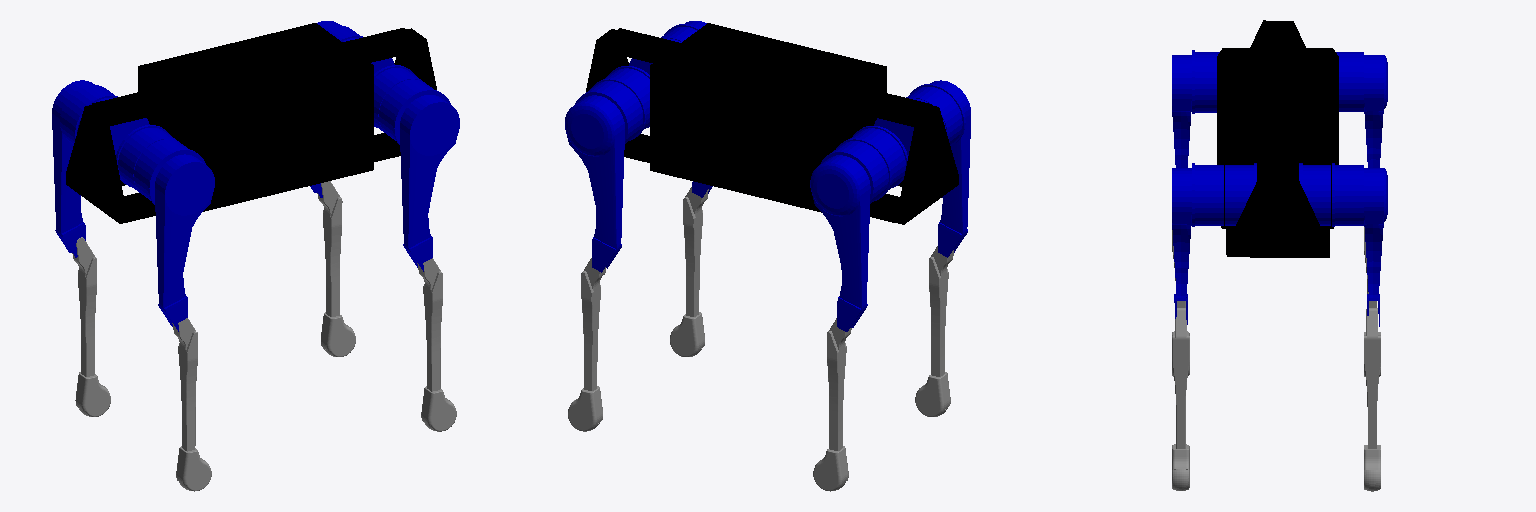
URDF robot description (rex):
<?xml version="1.0" encoding="utf-8"?>
<robot name="rex">
  <material name="black">
    <color rgba="0.0 0.0 0.0 1.0"/>
  </material>
  <material name="blue">
    <color rgba="0.0 0.0 0.8 1.0"/>
  </material>
  <material name="grey">
    <color rgba="0.6 0.6 0.6 1"/>
  </material>

  <link name="trunk">
    <visual>
      <origin rpy="0 0 -1.5708" xyz="0 0 0"/>
      <geometry>
        <mesh filename="rex/body.obj" scale="1 1 1"/>
      </geometry>
      <material name="black"/>
    </visual>
    <!-- <collision>
      <origin rpy="0 0 0" xyz="0 0 0"/>
      <geometry>
        <box size="0.267 0.194 0.114"/>
      </geometry>
    </collision> -->
    <collision>
      <origin rpy="0 0 0" xyz="0 0 0"/>
      <geometry>
        <mesh filename="rex/body.obj" scale="1 1 1"/>
      </geometry>
    </collision>
    <inertial>
      <origin rpy="0 0 0" xyz="0 0 0"/>
       <mass value="13.715"/>
       <inertia ixx="0.22" ixy="0" ixz="0" iyy="0.431" iyz="0" izz="0.565"/>
    </inertial>
  </link>

  <!-- FR HIP -->
  <link name="FR_hip">
    <!-- <contact>
      <lateral_friction value="1"/>
    </contact> -->
    <inertial>
       <origin rpy="0 0 0" xyz="0.02 0 0"/>
       <mass value="1.095"/>
       <inertia ixx="0.002" ixy="0" ixz="0" iyy=".002" iyz="0" izz=".001"/>
    </inertial>

    <visual>
      <origin rpy="0 0 0" xyz="0 0 0"/>
      <geometry>
        <mesh filename="rex/hip.obj" scale="1 1 1"/>
      </geometry>
       <material name="blue"/>
    </visual>

    <collision>
      <origin rpy="0 0 0" xyz="0 0 0"/>
      <geometry>
        <mesh filename="rex/hip.obj" scale="1 1 1"/>
      </geometry>
    </collision>
  </link>

  <joint name="FR_hip_joint" type="continuous">
    <axis xyz="1 0 0"/>
    <parent link="trunk"/>
    <child link="FR_hip"/>
    <origin rpy="1.57079 0 3.14159" xyz="0.22 -0.06 0.0"/>
    <limit effort="100" velocity="100"/>
    <joint_properties damping=".0" friction=".0"/>
  </joint>

  <!-- FR UPPER LEG -->
  <link name="FR_upper">
  <!-- <contact>
      <lateral_friction value="1"/>
  </contact> -->
    <inertial>
     <origin rpy="0 0 0" xyz="0 -0.04 -0.04"/>
       <mass value="1.527"/>
       <inertia ixx="0.015" ixy="0" ixz="0" iyy="0.007" iyz="0" izz="0.01"/>
    </inertial>
    <visual>
      <origin rpy="0 0 0" xyz="0 0 0"/>
      <geometry>
        <mesh filename="rex/upper_leg_mirror.obj" scale="1 1 1"/>
      </geometry>
      <material name="blue"/>
    </visual>

    <collision>
      <origin rpy="0 0 0" xyz="0 0 0"/>
      <geometry>
        <mesh filename="rex/upper_leg_mirror.obj" scale="1 1 1"/>
      </geometry>
    </collision>
  </link>

  <joint name="FR_upper_joint" type="continuous">
    <axis xyz="0 1 0"/>
    <parent link="FR_hip"/>
    <child link="FR_upper"/>
    <origin rpy="1.57079 0 1.57079" xyz="-0.0015 0 -0.095"/>
    <limit effort="100" velocity="100"/>
    <joint_properties damping=".0" friction=".0"/>
  </joint>

  <!-- FR LOWER LEG -->
  <link name="FR_lower">
  <!-- <contact>
      <lateral_friction value="1"/>
  </contact> -->
    <inertial>
      <origin rpy="0 0 0" xyz="0 -0.16 -0.02"/>
       <mass value="0.241"/>
       <inertia ixx="0.002" ixy="0" ixz="0" iyy="0.002" iyz="0" izz="0.002"/>
    </inertial>
    <visual>
      <origin rpy="1.57079 1.57079 0" xyz="0 0.0 0"/>
      <geometry>
        <mesh filename="rex/lower_leg.obj" scale="1 1 1"/>
      </geometry>
       <material name="grey"/>
    </visual>

    <collision>
      <origin rpy="1.57079 1.57079 0" xyz="0 0.0 0"/>
      <geometry>
        <mesh filename="rex/lower_leg.obj" scale="1 1 1"/>
      </geometry>
    </collision>
  </link>

  <joint name="FR_lower_joint" type="continuous">
    <axis xyz="0 1 0"/>
    <parent link="FR_upper"/>
    <child link="FR_lower"/>
    <origin rpy="0 0 0" xyz="-0.25 -0.005 0.006"/>
    <limit effort="100" velocity="100"/>
    <joint_properties damping=".0" friction=".0"/>
  </joint>

  <!-- FR TOE -->
  <link name="FR_toe">
    <!-- <contact>
      <friction_anchor/>
      <stiffness value="30000.0"/>
      <damping value="1000.0"/>
      <spinning_friction value="0.1"/>
      <lateral_friction value="1.0"/>
    </contact> -->
    <visual>
      <origin rpy="0 0 0" xyz="0 0 0"/>
      <geometry>
        <sphere radius="0.0"/>
      </geometry>
      <material name="black"/>
    </visual>
    <collision>
      <origin rpy="0 0 0" xyz="0 0 0"/>
      <geometry>
        <sphere radius="0.03"/>
      </geometry>
    </collision>
    <inertial>
      <mass value="0.1"/>
      <inertia ixx="0.000025" ixy="0" ixz="0" iyy="0.000025" iyz="0" izz="0.000025"/>
    </inertial>
  </link>

  <joint name="FR_toe_fixed" type="fixed">
    <parent link="FR_lower"/>
    <child link="FR_toe"/>
    <origin xyz="-0.25 0 -0.02"/>
    <dynamics damping="0.0" friction="0.0"/>
  </joint>

  <!-- FL HIP -->
  <link name="FL_hip">
  <!-- <contact>
      <lateral_friction value="1"/>
  </contact> -->
    <inertial>
     <origin rpy="0 0 0" xyz="-.02 0 0"/>
       <mass value="1.095"/>
       <inertia ixx="0.002" ixy="0" ixz="0" iyy="0.002" iyz="0" izz="0.001"/>
    </inertial>
    <visual>
      <origin rpy="0 0 0" xyz="0 0 0"/>
      <geometry>
        <mesh filename="rex/hip.obj" scale="1 1 1"/>
      </geometry>
       <material name="blue">
      </material>
    </visual>

    <collision>
      <origin rpy="0 0 0" xyz="0 0 0"/>
      <geometry>
        <mesh filename="rex/hip.obj" scale="1 1 1"/>
      </geometry>
    </collision>
  </link>

  <joint name="FL_hip_joint" type="continuous">
    <axis xyz="1 0 0"/>
    <parent link="trunk"/>
    <child link="FL_hip"/>
    <origin rpy="-1.57079 0 3.14159" xyz="0.22 0.06 0.0"/>
    <limit effort="100" velocity="100"/>
    <joint_properties damping=".0" friction=".0"/>
  </joint>

  <!-- FL UPPER LEG -->
  <link name="FL_upper">
  <!-- <contact>
      <lateral_friction value="1"/>
  </contact> -->
    <inertial>
       <origin rpy="0 0 0" xyz="0 -0.04 -0.04"/>
       <mass value="1.527"/>
       <inertia ixx="0.016" ixy="0" ixz="0" iyy="0.007" iyz="0" izz="0.011"/>
    </inertial>
     <visual>
      <origin rpy="0 0 0" xyz="0 0 0"/>
      <geometry>

        <mesh filename="rex/upper_leg.obj" scale="1 1 1"/>
      </geometry>
       <material name="blue">
      </material>
    </visual>

     <collision>
      <origin rpy="0 0 0" xyz="0 0 0"/>
      <geometry>
        <mesh filename="rex/upper_leg.obj" scale="1 1 1"/>
      </geometry>
    </collision>
  </link>


  <joint name="FL_upper_joint" type="continuous">
    <axis xyz="0 0 -1"/>
    <parent link="FL_hip"/>
    <child link="FL_upper"/>
    <origin rpy="0 0 3.14159" xyz="-0.0015 0 -0.101"/>
    <limit effort="100" velocity="100"/>
    <joint_properties damping=".0" friction=".0"/>
  </joint>

  <!-- FL LOWER LEG -->
  <link name="FL_lower">
  <!-- <contact>
      <lateral_friction value="1"/>
  </contact> -->
    <inertial>
      <origin rpy="0 0 0" xyz="0 -0.16 -0.02"/>
       <mass value="0.241"/>
       <inertia ixx="0.002" ixy="0" ixz="0" iyy="0.002" iyz="0" izz="0.002"/>
    </inertial>
   <visual>
      <origin rpy="0 0 0" xyz="0 0 0"/>
      <geometry>
        <mesh filename="rex/lower_leg.obj" scale="1 1 1"/>
      </geometry>
       <material name="grey">
       </material>
    </visual>

     <collision>
      <origin rpy="0 0 0" xyz="0 0 0"/>
      <geometry>
        <mesh filename="rex/lower_leg.obj" scale="1 1 1"/>
      </geometry>
    </collision>
  </link>

  <joint name="FL_lower_joint" type="continuous">
    <axis xyz="0 0 -1"/>
    <parent link="FL_upper"/>
    <child link="FL_lower"/>
    <origin rpy="0 0 0" xyz="-0.005 -0.25 0.006"/>
    <limit effort="100" velocity="100"/>
    <joint_properties damping=".0" friction=".0"/>
  </joint>

  <!-- FL TOE -->
  <link name="FL_toe">
    <!-- <contact>
      <friction_anchor/>
      <stiffness value="30000.0"/>
      <damping value="1000.0"/>
      <spinning_friction value="0.1"/>
      <lateral_friction value="1.0"/>
    </contact> -->
    <visual>
      <origin rpy="0 0 0" xyz="0 0 0"/>
      <geometry>
        <sphere radius="0.0"/>
      </geometry>
      <material name="black"/>
    </visual>
    <collision>
      <origin rpy="0 0 0" xyz="0 0 0"/>
      <geometry>
        <sphere radius="0.03"/>
      </geometry>
    </collision>
    <inertial>
      <mass value="0.1"/>
      <inertia ixx="0.000025" ixy="0" ixz="0" iyy="0.000025" iyz="0" izz="0.000025"/>
    </inertial>
  </link>

  <joint name="FL_toe_fixed" type="fixed">
    <parent link="FL_lower"/>
    <child link="FL_toe"/>
    <origin xyz="0.02 -0.25 0"/>
    <dynamics damping="0.0" friction="0.0"/>
  </joint>

  <!-- RR HIP -->
  <link name="RR_hip">
  <!-- <contact>
      <lateral_friction value="1"/>
  </contact> -->
    <inertial>
      <origin rpy="0 0 0" xyz="0.02 0 0"/>
       <mass value="1.095"/>
       <inertia ixx="0.002" ixy="0" ixz="0" iyy="0.002" iyz="0" izz="0.001"/>
    </inertial>

    <visual>
      <origin rpy="0 0 0" xyz="0 0 0"/>
      <geometry>
        <mesh filename="rex/hip.obj" scale="1 1 1"/>
      </geometry>
       <material name="blue"/>
    </visual>

     <collision>
      <origin rpy="0 0 0" xyz="0 0 0"/>
      <geometry>
        <mesh filename="rex/hip.obj" scale="1 1 1"/>
      </geometry>
    </collision>
  </link>

  <joint name="RR_hip_joint" type="continuous">
    <axis xyz="1 0 0"/>
    <parent link="trunk"/>
    <child link="RR_hip"/>
    <origin rpy="1.57079 0 3.14159" xyz="-0.22 -0.06 0.0"/>
    <limit effort="100" velocity="100"/>
    <joint_properties damping=".0" friction=".0"/>
  </joint>

  <!-- RR UPPER LEG -->
  <link name="RR_upper">
  <!-- <contact>
      <lateral_friction value="1"/>
  </contact> -->
    <inertial>
     <origin rpy="0 0 0" xyz="0 -0.04 -0.04"/>
       <mass value="1.527"/>
       <inertia ixx="0.016" ixy="0" ixz="0" iyy="0.007" iyz="0" izz="0.011"/>
    </inertial>
       <visual>
      <origin rpy="0 0 0" xyz="0 0 0"/>
      <geometry>
        <mesh filename="rex/upper_leg_mirror.obj" scale="1 1 1"/>
      </geometry>
       <material name="blue"/>
    </visual>

    <collision>
      <origin rpy="0 0 0" xyz="0 0 0"/>
      <geometry>
        <mesh filename="rex/upper_leg_mirror.obj" scale="1 1 1"/>
      </geometry>
    </collision>
  </link>

  <joint name="RR_upper_joint" type="continuous">
    <axis xyz="0 1 0"/>
    <parent link="RR_hip"/>
    <child link="RR_upper"/>
    <origin rpy="1.57079 0 1.57079" xyz="-0.0015 0 -0.095"/>
    <limit effort="100" velocity="100"/>
    <joint_properties damping=".0" friction=".0"/>
  </joint>

  <!-- RR LOWER LEG -->
  <link name="RR_lower">
  <!-- <contact>
      <lateral_friction value="1"/>
  </contact> -->
    <inertial>
      <origin rpy="0 0 0" xyz="0 -0.16 -0.02"/>
       <mass value="0.241"/>
       <inertia ixx="0.002" ixy="0" ixz="0" iyy="0.002" iyz="0" izz="0.002"/>
    </inertial>
       <visual>
      <origin rpy="1.57079 1.57079 0" xyz="0 0 0"/>
      <geometry>
        <mesh filename="rex/lower_leg.obj" scale="1 1 1"/>
      </geometry>
       <material name="grey"/>
    </visual>

     <collision>
      <origin rpy="1.57079 1.57079 0" xyz="0 0 0"/>
      <geometry>
        <mesh filename="rex/lower_leg.obj" scale="1 1 1"/>
      </geometry>
    </collision>
  </link>

  <joint name="RR_lower_joint" type="continuous">
    <axis xyz="0 1 0"/>
    <parent link="RR_upper"/>
    <child link="RR_lower"/>
    <origin rpy="0 0 0" xyz="-0.25 -0.005 0.006"/>
    <limit effort="100" lower="-2.69653369433" upper="-0.916297857297" velocity="100"/>
    <joint_properties damping=".0" friction=".0"/>
  </joint>

  <!-- RR TOE -->
  <link name="RR_toe">
    <!-- <contact>
      <friction_anchor/>
      <stiffness value="30000.0"/>
      <damping value="1000.0"/>
      <spinning_friction value="0.1"/>
      <lateral_friction value="1.0"/>
    </contact> -->
    <visual>
      <origin rpy="0 0 0" xyz="0 0 0"/>
      <geometry>
        <sphere radius="0.0"/>
      </geometry>
      <material name="black"/>
    </visual>
    <collision>
      <origin rpy="0 0 0" xyz="0 0 0"/>
      <geometry>
        <sphere radius="0.03"/>
      </geometry>
    </collision>
    <inertial>
      <mass value="0.1"/>
      <inertia ixx="0.000025" ixy="0" ixz="0" iyy="0.000025" iyz="0" izz="0.000025"/>
    </inertial>
  </link>

  <joint name="RR_toe_fixed" type="fixed">
    <parent link="RR_lower"/>
    <child link="RR_toe"/>
    <origin xyz="-0.25 0 -0.02"/>
    <dynamics damping="0.0" friction="0.0"/>
  </joint>

  <!-- RL HIP -->
  <link name="RL_hip">
  <!-- <contact>
      <lateral_friction value="1"/>
  </contact> -->
    <inertial>
      <origin rpy="0 0 0" xyz="-.02 0 0"/>
       <mass value="1.095"/>
       <inertia ixx="0.002" ixy="0" ixz="0" iyy="0.002" iyz="0" izz="0.001"/>
    </inertial>
    <visual>
      <origin rpy="0 0 0" xyz="0 0 0"/>
      <geometry>
        <mesh filename="rex/hip.obj" scale="1 1 1"/>
      </geometry>
       <material name="blue"/>
    </visual>

    <collision>
      <origin rpy="0 0 0" xyz="0 0 0"/>
      <geometry>
        <mesh filename="rex/hip.obj" scale="1 1 1"/>
      </geometry>
    </collision>
   </link>

   <joint name="RL_hip_joint" type="continuous">
    <axis xyz="1 0 0"/>
    <parent link="trunk"/>
    <child link="RL_hip"/>
    <origin rpy="-1.57079 0 3.14159" xyz="-0.22 0.06 0.0"/>
    <limit effort="100" velocity="100"/>
    <joint_properties damping=".0" friction=".0"/>
  </joint>

  <!-- RL UPPER LEG -->
  <link name="RL_upper">
  <!-- <contact>
      <lateral_friction value="1"/>
  </contact> -->
    <inertial>
      <origin rpy="0 0 0" xyz="0 -0.04 -0.04"/>
       <mass value="1.527"/>
       <inertia ixx="0.016" ixy="0" ixz="0" iyy="0.007" iyz="0" izz="0.011"/>
    </inertial>
     <visual>
      <origin rpy="0 0 0" xyz="0 0 0"/>
      <geometry>
        <mesh filename="rex/upper_leg.obj" scale="1 1 1"/>
      </geometry>
       <material name="blue"/>
    </visual>

    <collision>
      <origin rpy="0 0 0" xyz="0 0 0"/>
      <geometry>
        <mesh filename="rex/upper_leg.obj" scale="1 1 1"/>
      </geometry>
    </collision>
  </link>

  <joint name="RL_upper_joint" type="continuous">
    <axis xyz="0 0 -1"/>
    <parent link="RL_hip"/>
    <child link="RL_upper"/>
    <origin rpy="0 0 3.14159" xyz="-0.0015 0 -0.101"/>
    <limit effort="100" velocity="100"/>
    <joint_properties damping=".0" friction=".0"/>
  </joint>

  <!-- RL LOWER LEG -->
  <link name="RL_lower">
  <!-- <contact>
      <lateral_friction value="1"/>
  </contact> -->
    <inertial>
      <origin rpy="0 0 0" xyz="0 -0.16 -0.02"/>
       <mass value="0.241"/>
       <inertia ixx="0.002" ixy="0" ixz="0" iyy="0.002" iyz="0" izz="0.002"/>
    </inertial>
   <visual>
      <origin rpy="0 0 0" xyz="0 0 0"/>
      <geometry>
        <mesh filename="rex/lower_leg.obj" scale="1 1 1"/>
      </geometry>
       <material name="grey"/>
    </visual>

    <collision>
      <origin rpy="0 0 0" xyz="0 0 0"/>
      <geometry>
        <mesh filename="rex/lower_leg.obj" scale="1 1 1"/>
      </geometry>
    </collision>
  </link>

  <joint name="RL_lower_joint" type="continuous">
    <axis xyz="0 0 -1"/>
    <parent link="RL_upper"/>
    <child link="RL_lower"/>
    <origin rpy="0 0 0" xyz="-0.005 -0.25 0.006"/>
    <limit effort="100" velocity="100"/>
    <joint_properties damping=".0" friction=".0"/>
  </joint>

  <!-- RL TOE -->
  <link name="RL_toe">
    <!-- <contact>
      <friction_anchor/>
      <stiffness value="30000.0"/>
      <damping value="1000.0"/>
      <spinning_friction value="0.1"/>
      <lateral_friction value="1.0"/>
    </contact> -->
    <visual>
      <origin rpy="0 0 0" xyz="0 0 0"/>
      <geometry>
        <sphere radius="0.0"/>
      </geometry>
      <material name="black"/>
    </visual>
    <collision>
      <origin rpy="0 0 0" xyz="0 0 0"/>
      <geometry>
        <sphere radius="0.03"/>
      </geometry>
    </collision>
    <inertial>
      <mass value="0.1"/>
      <inertia ixx="0.000025" ixy="0" ixz="0" iyy="0.000025" iyz="0" izz="0.000025"/>
    </inertial>
  </link>

  <joint name="RL_toe_fixed" type="fixed">
    <parent link="RL_lower"/>
    <child link="RL_toe"/>
    <origin xyz="0.02 -0.25 0"/>
    <dynamics damping="0.0" friction="0.0"/>
  </joint>
</robot>

--- Render facts (derived) ---
The picture shows the robot from 3 angles, left to right: view 1: azimuth 30°, elevation 25°; view 2: azimuth 150°, elevation 25°; view 3: azimuth 270°, elevation 25°; orthographic projection.
Robot: rex — 17 links, 16 joints (12 continuous, 4 fixed); root link trunk; default pose: all joints at 0.
Links seen in each view (by area): view 1: trunk, RR_upper, FR_upper, RL_upper, RL_lower, FL_lower, FR_lower, RR_lower, RR_hip, FR_hip, RL_hip, FL_upper; view 2: trunk, RL_upper, FL_upper, RR_upper, RR_lower, RL_lower, FL_lower, FR_lower, RL_hip, FL_hip, FR_upper, RR_hip; view 3: trunk, FL_upper, FR_upper, RL_upper, RR_upper, FR_lower, FL_lower, FR_hip, FL_hip.
Boxes of the visible links, box(x1,y1,x2,y2) form: trunk: box(66, 23, 436, 223); RR_upper: box(134, 139, 214, 331); FR_upper: box(379, 79, 459, 271); RL_upper: box(52, 80, 117, 257); RL_lower: box(72, 237, 110, 416); FL_lower: box(317, 181, 355, 356); FR_lower: box(417, 258, 456, 431); RR_lower: box(172, 318, 211, 491); RR_hip: box(116, 125, 178, 192); FR_hip: box(374, 65, 424, 132); RL_hip: box(77, 98, 149, 154); FL_upper: box(310, 21, 362, 197); trunk: box(586, 23, 958, 224); RL_upper: box(810, 138, 891, 331); FL_upper: box(565, 78, 645, 272); RR_upper: box(906, 80, 970, 257); RR_lower: box(915, 246, 953, 416); RL_lower: box(813, 318, 851, 491); FL_lower: box(568, 258, 605, 431); FR_lower: box(670, 187, 708, 356); RL_hip: box(850, 126, 907, 189); FL_hip: box(605, 66, 649, 129); FR_upper: box(661, 21, 712, 197); RR_hip: box(874, 98, 946, 155); trunk: box(1217, 20, 1338, 257); FL_upper: box(1332, 163, 1387, 326); FR_upper: box(1172, 163, 1223, 324); RL_upper: box(1336, 52, 1387, 167); RR_upper: box(1172, 50, 1219, 167); FR_lower: box(1172, 308, 1189, 490); FL_lower: box(1364, 308, 1380, 491); FR_hip: box(1225, 163, 1256, 225); FL_hip: box(1299, 163, 1330, 225).
Size in the robot's own frame: 0.5869 by 0.355 by 0.6161 metres.
Meshes: 5 distinct files referenced, 13 mesh visuals loaded (5 OBJ).